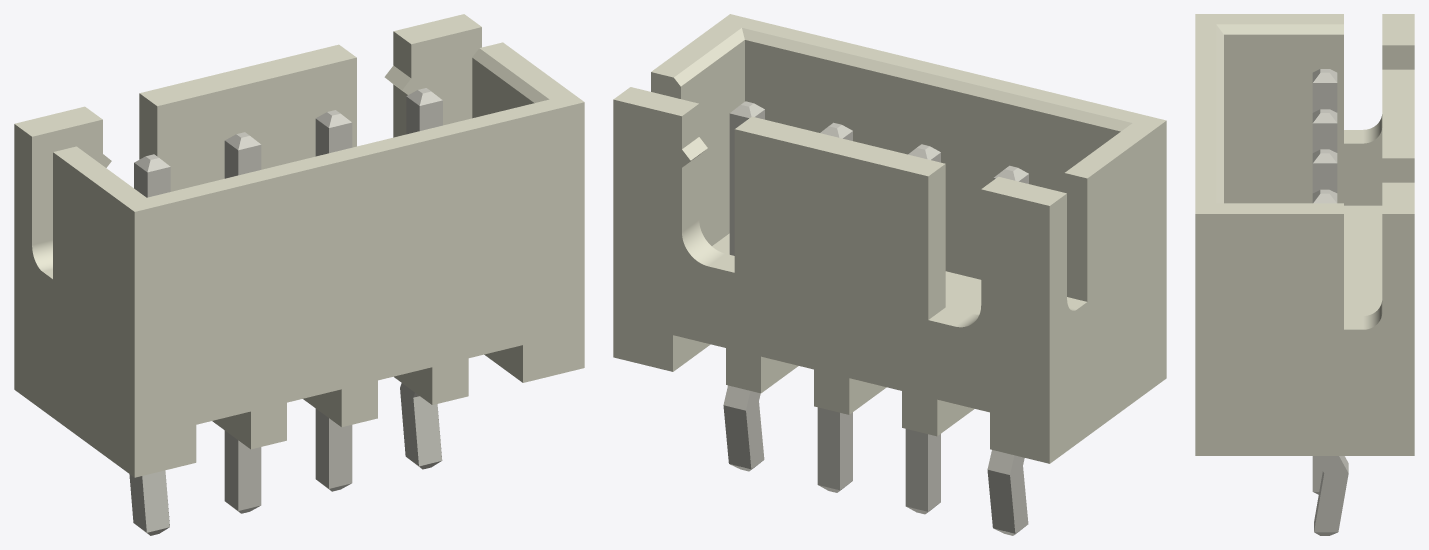
The model's file is jst_xh_b4b_xh_a_1x04_p2_50mm_vertical.glb.
3 renders of one model, left to right at view 1: azimuth 30°, elevation 25°; view 2: azimuth 150°, elevation 25°; view 3: azimuth 270°, elevation 25°, orthographic. The views are drawn at different scales.
Parts seen in each view (by area): view 1: conn_jst_xh_4p, pin_4, pin_2, pin_3, pin_1; view 2: conn_jst_xh_4p, pin_1, pin_4, pin_3, pin_2; view 3: conn_jst_xh_4p, pin_4, pin_3.
Part boxes in pixels (<box>): conn_jst_xh_4p: <box>14,14,584,477</box>; pin_4: <box>400,383,442,469</box>; pin_2: <box>224,430,261,513</box>; pin_3: <box>315,408,352,491</box>; pin_1: <box>129,470,169,535</box>; conn_jst_xh_4p: <box>613,14,1166,463</box>; pin_1: <box>987,450,1028,535</box>; pin_4: <box>723,385,764,471</box>; pin_3: <box>817,407,852,492</box>; pin_2: <box>905,429,940,514</box>; conn_jst_xh_4p: <box>1195,14,1414,455</box>; pin_4: <box>1314,456,1348,535</box>; pin_3: <box>1312,456,1322,494</box>.
Size of the model in its own units: 0.0124 by 0.0104 by 0.00575.
